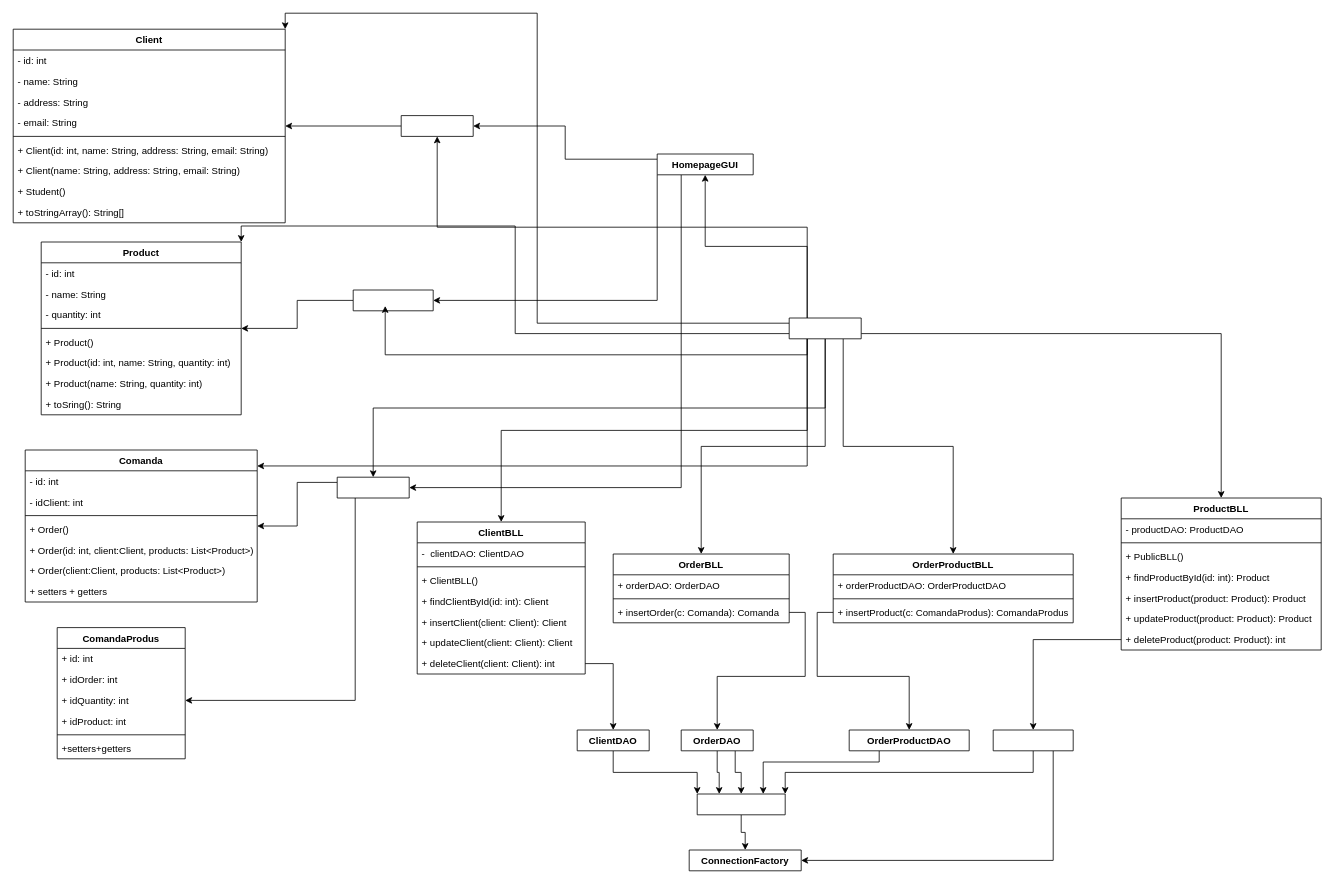
Image size: 1334x884. Some labels were removed from this diagram. Each missing label, with the centre of its shape:
"AbstractDAO" belongs at point 740,804.
"ClientGUI" belongs at point 436,125.
"Controller" belongs at point 824,328.
"OrderGUI" belongs at point 372,487.
"ProductDAO" belongs at point 1032,740.
"ProductGUI" belongs at point 392,300.
